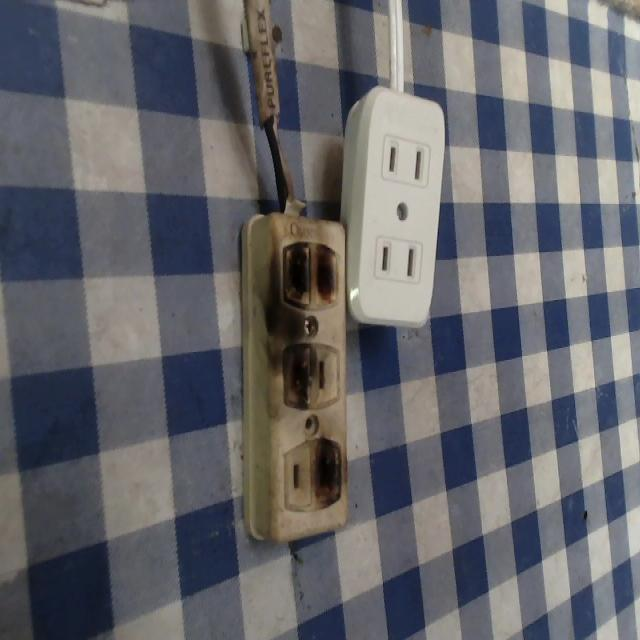-: (274, 233, 342, 310), (306, 432, 352, 515), (273, 333, 317, 418)
